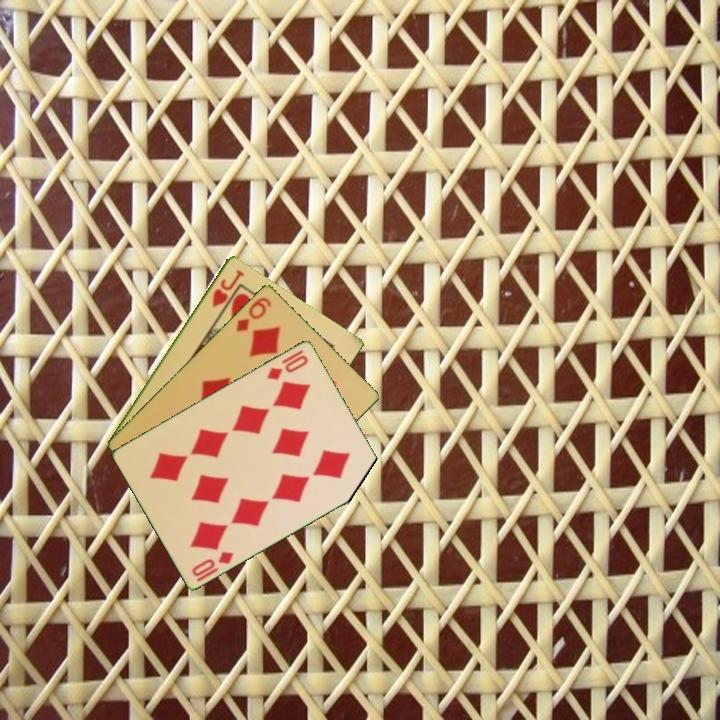10d: (188, 547, 236, 584), (263, 351, 311, 382)
6d: (232, 293, 274, 334)
Jh: (208, 266, 247, 310)
